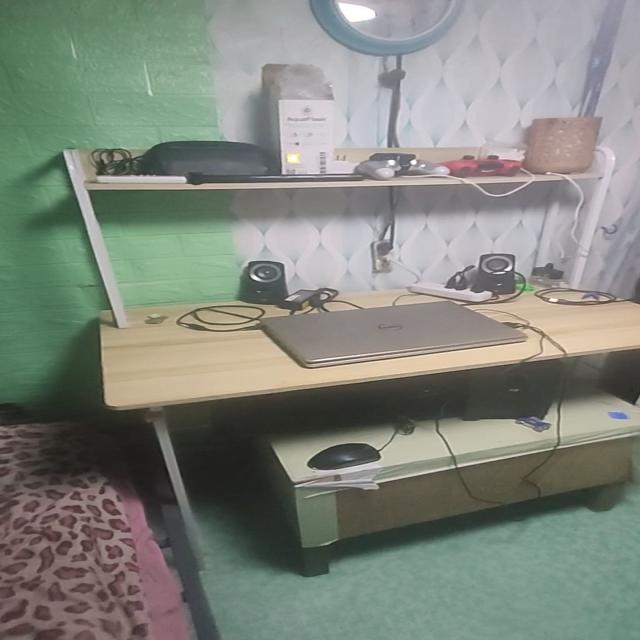table: (74, 269, 640, 580)
